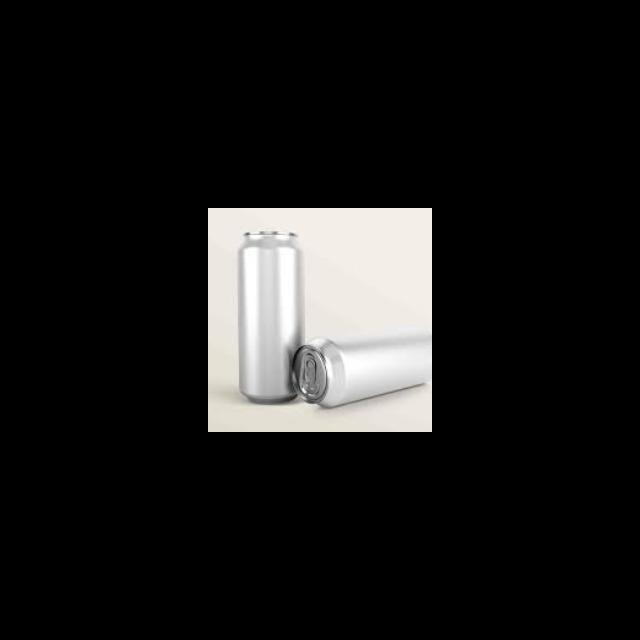metal: (232, 225, 308, 405), (285, 327, 432, 412)
